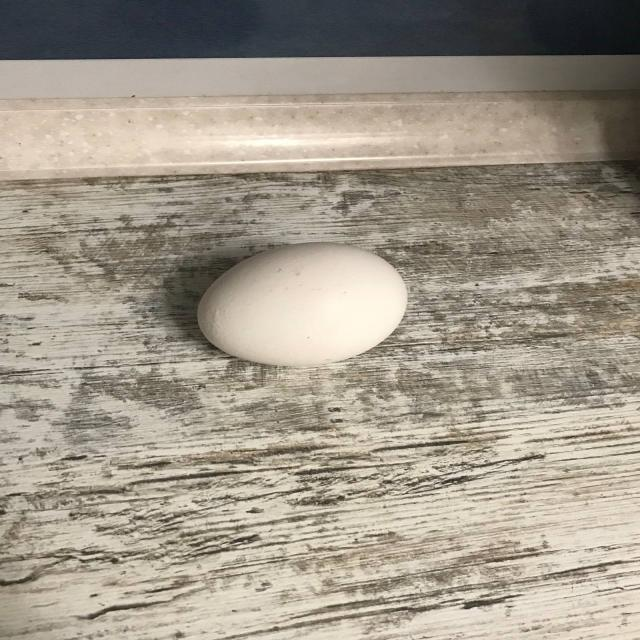egg: (196, 241, 408, 367)
